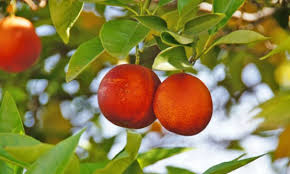orange: (156, 65, 216, 134)
